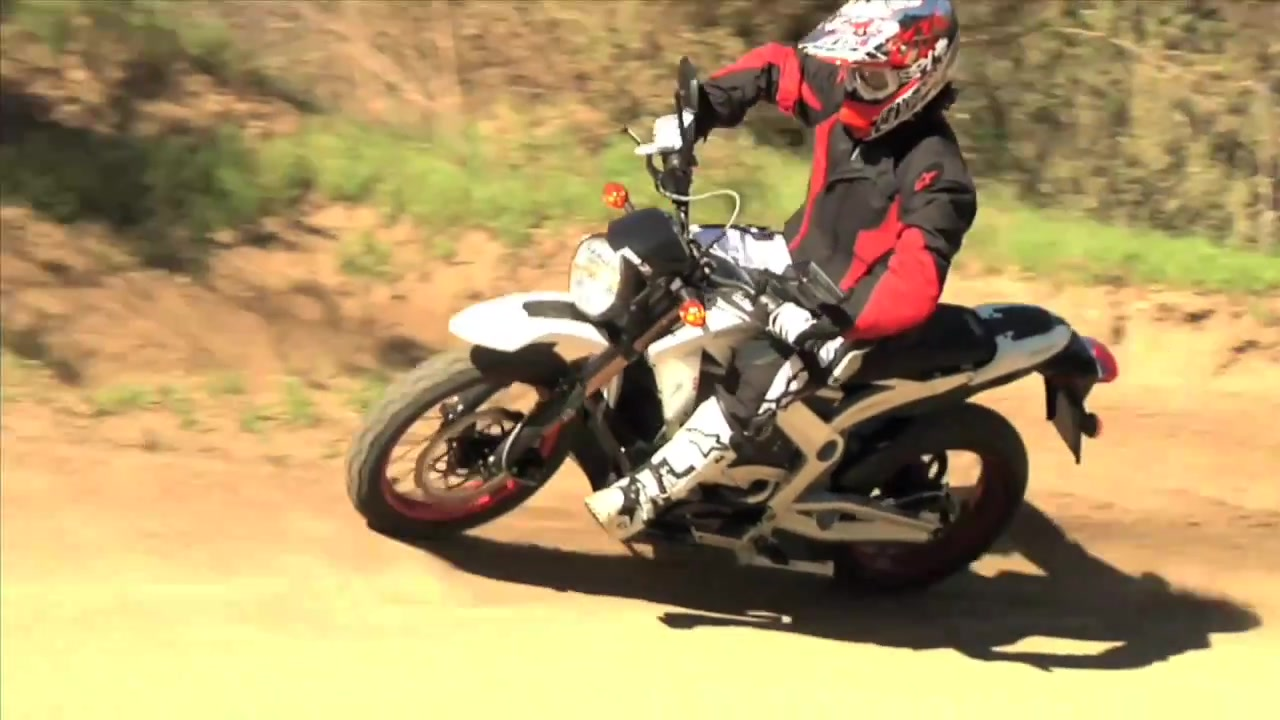motorbike: (345, 60, 1123, 587)
